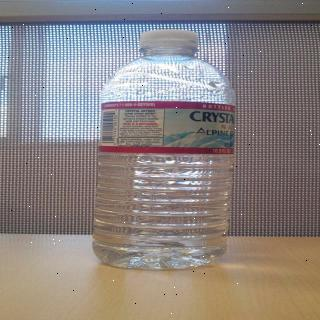Plastic-bottle: (84, 29, 241, 273)
